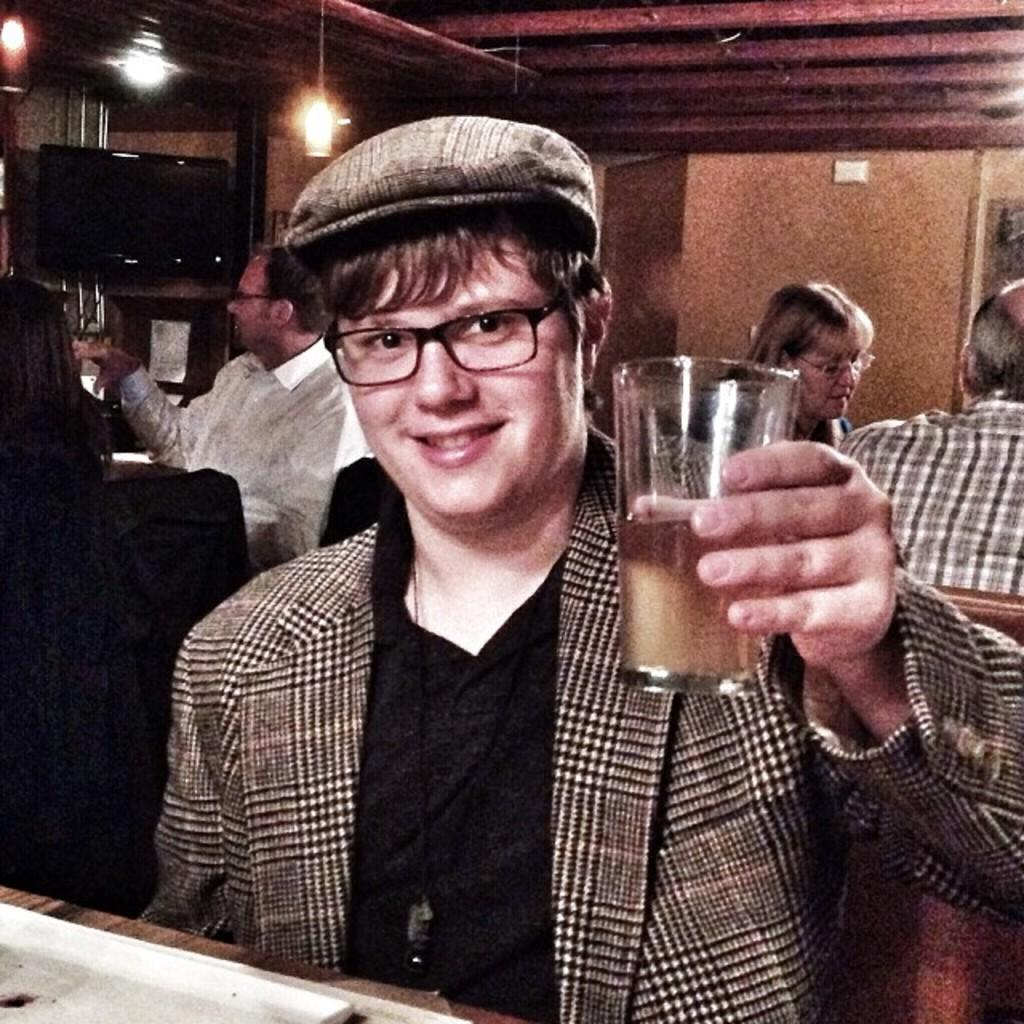Hat: (286, 114, 601, 258)
